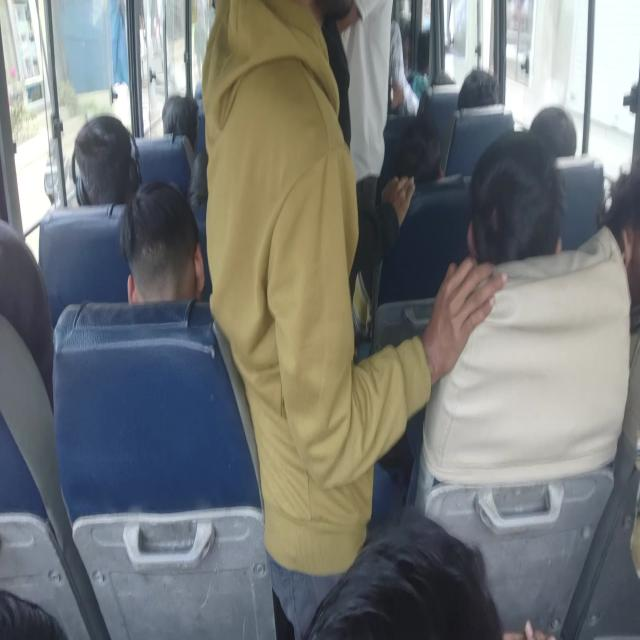person: (201, 1, 508, 637), (302, 504, 554, 639), (466, 129, 565, 266), (119, 179, 205, 304), (598, 158, 640, 330), (70, 113, 142, 206), (393, 114, 444, 184), (387, 19, 420, 116), (528, 104, 576, 158), (162, 94, 198, 150), (457, 68, 498, 110)
